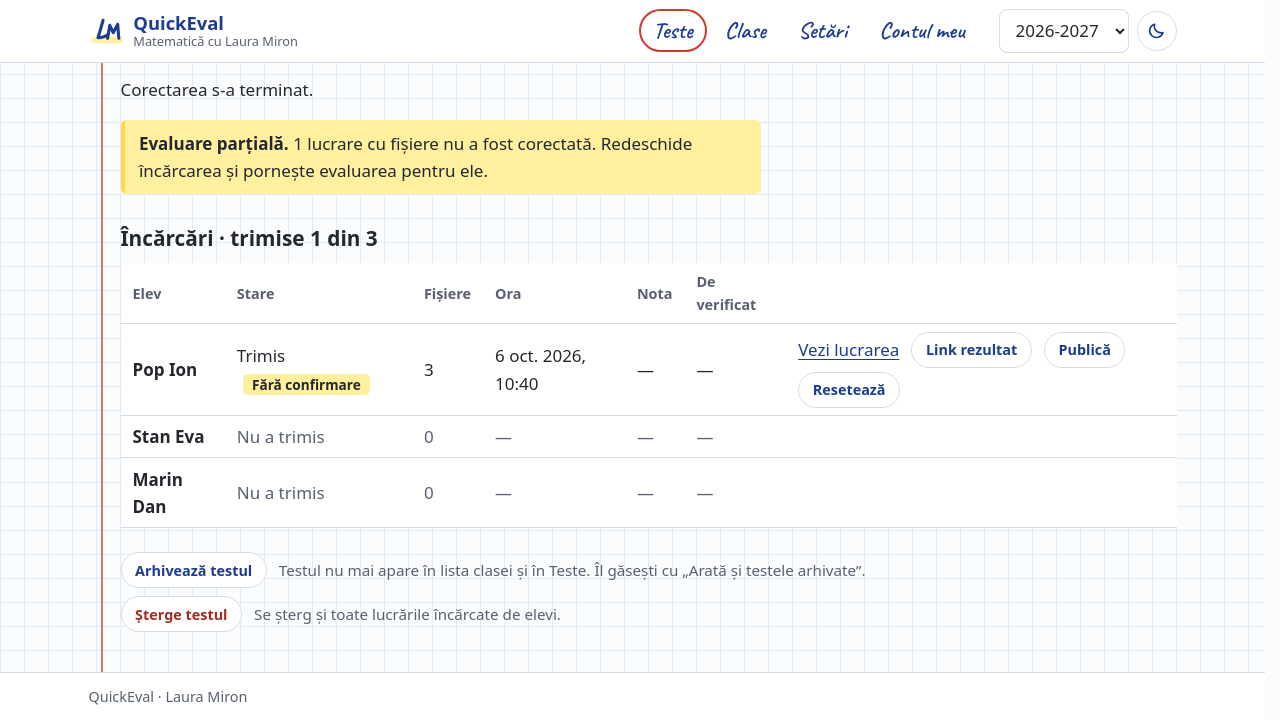
Scenario: TestPage › archives a finished test and offers to take it out of the archive
This screenshot has width=1280, height=720.
(page scrolled)
expect the text "Testul nu mai apare în lista clasei și în Teste. Îl găsești cu „Arată și testele arhivate”." is shown: met, box [279,560,866,580]
What coordinates should you click on to do the following:
click the button "Arhivează testul"
I would click on:
 (194, 570)
Its box is [120,552,267,588].
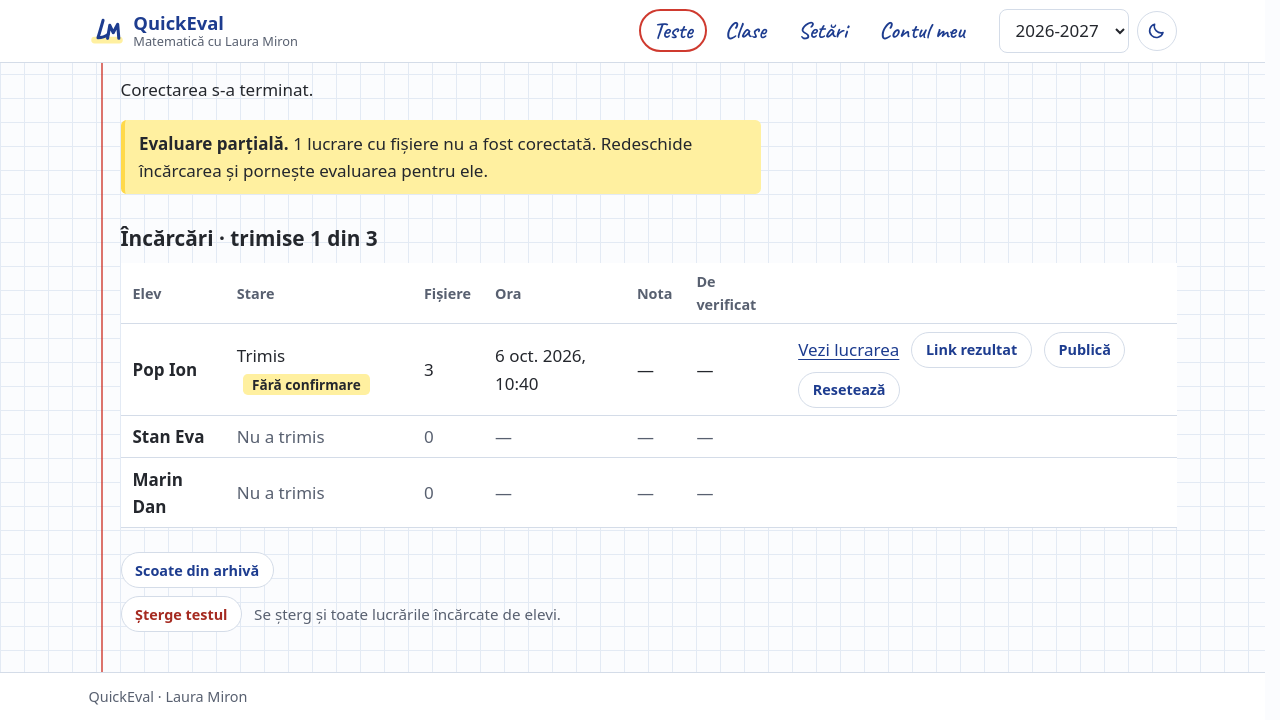
expect the button "Arhivează testul" is gone: met
What coordinates should you click on to do the following:
click the button "Scoate din arhivă"
I would click on:
 (197, 570)
Its box is [120,552,274,588].
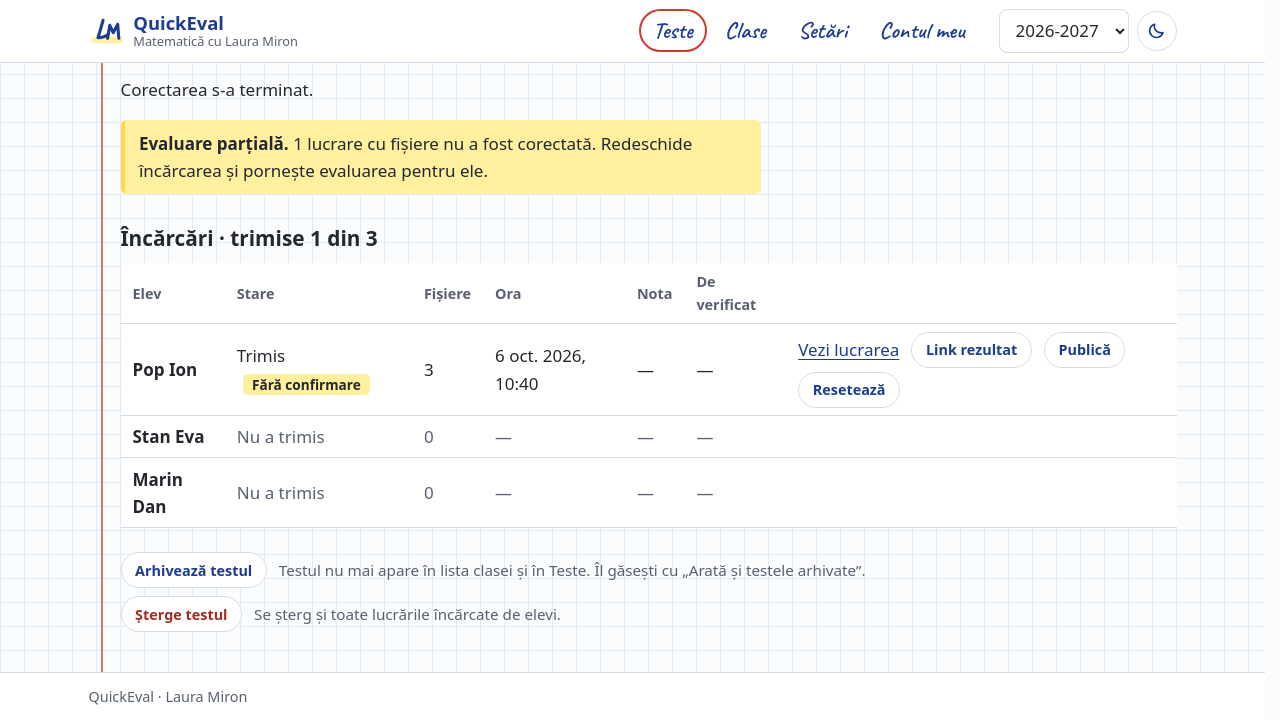
expect the button "Arhivează testul" is shown: met, box [120,552,267,588]
